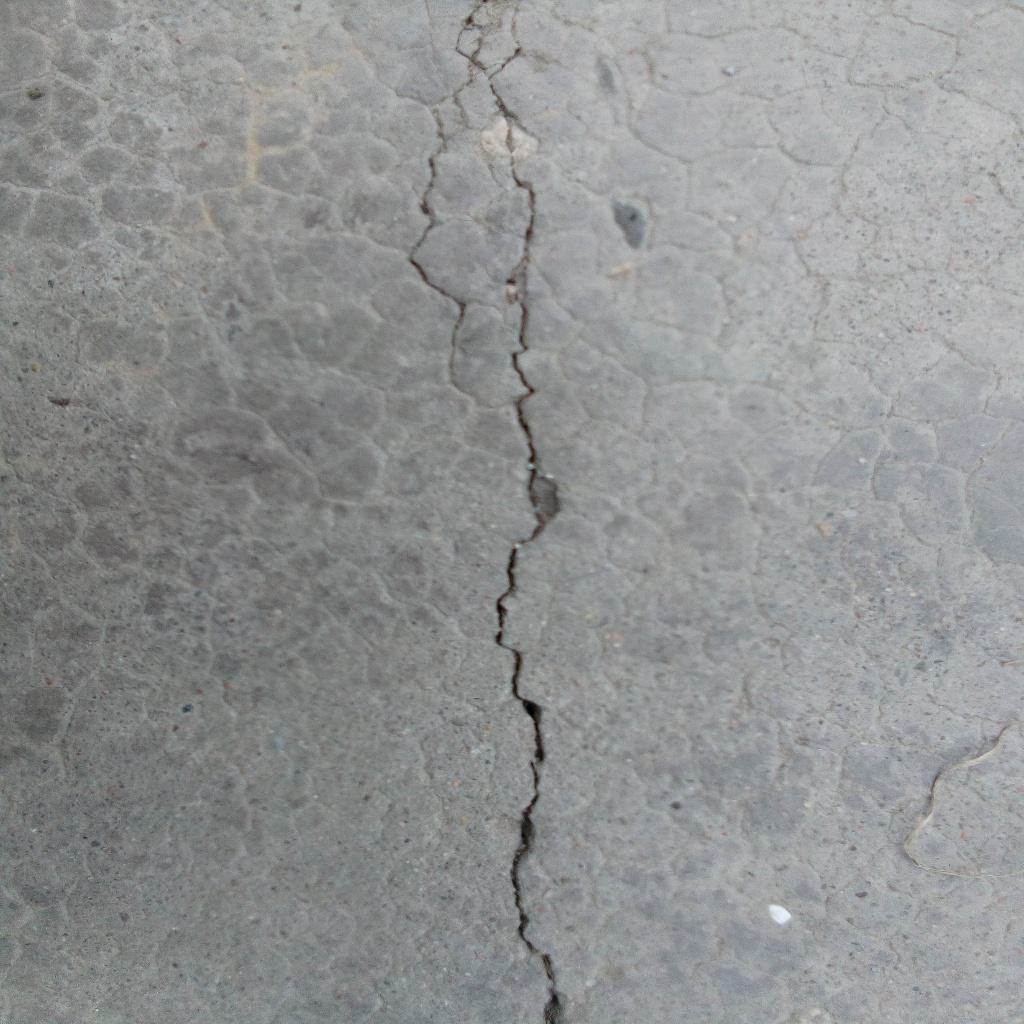Crack: (407, 1, 564, 1024)
